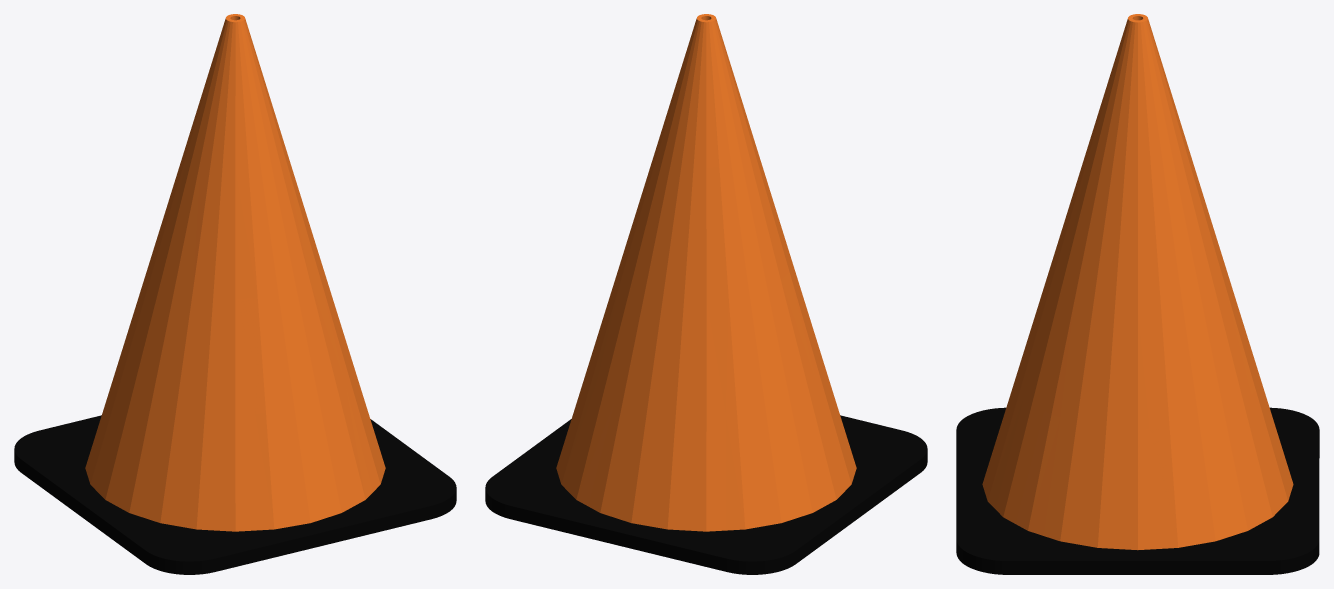
The model's file is coneorange.obj.
3 views of the same model, side by side, from view 1: azimuth 30°, elevation 25°; view 2: azimuth 150°, elevation 25°; view 3: azimuth 270°, elevation 25° (orthographic). The views are drawn at different scales.
Visible parts, largest first — view 1: Object.008; view 2: Object.008; view 3: Object.008.
Part boxes in pixels (x1,y1,x2,y2): Object.008: (14, 14, 456, 574); Object.008: (485, 14, 927, 574); Object.008: (956, 14, 1319, 574).
Bounding box in the file's own units: 0.2399 × 0.35 × 0.2399.
